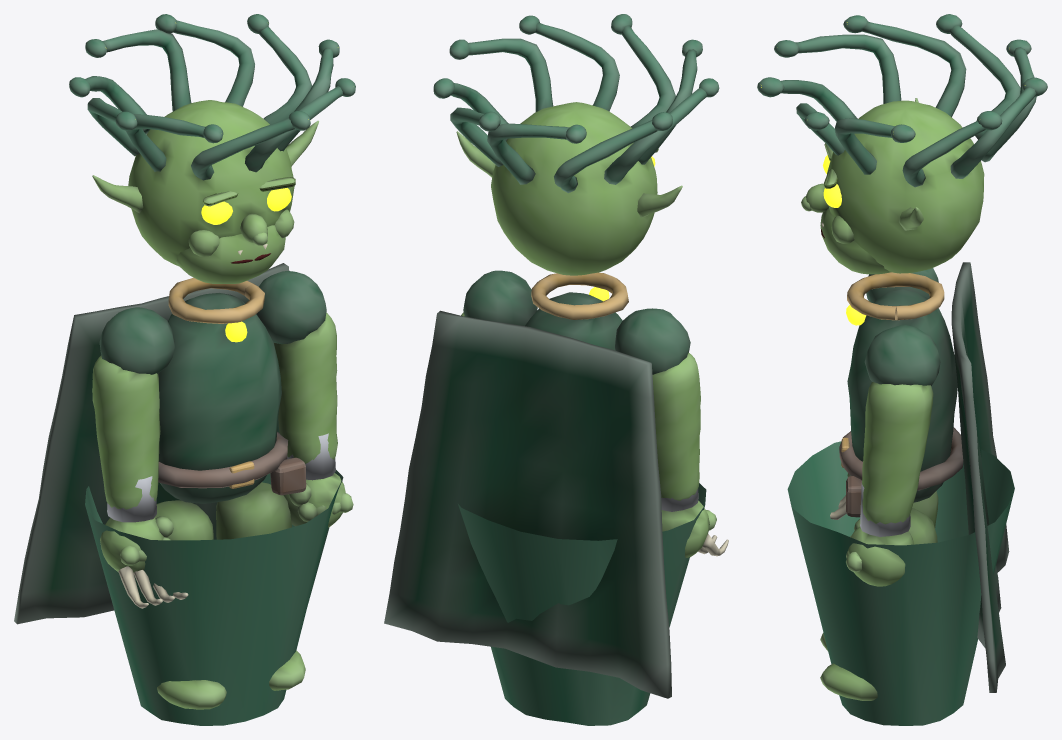
3 renders of one model, left to right at view 1: azimuth 30°, elevation 25°; view 2: azimuth 150°, elevation 25°; view 3: azimuth 270°, elevation 25°, orthographic.
Visible parts, largest first — view 1: torso, head, cape, armR, armL, legL, legR; view 2: cape, head, torso, armR; view 3: torso, head, armL, cape, legL, legR.
Boxes of the visible parts, <box> form: torso: <box>85,271,343,725</box>; head: <box>69,14,355,283</box>; cape: <box>14,263,289,624</box>; armR: <box>92,355,188,608</box>; armL: <box>274,312,353,527</box>; legL: <box>216,482,305,690</box>; legR: <box>155,500,226,709</box>; cape: <box>384,310,671,698</box>; head: <box>433,14,719,275</box>; torso: <box>458,270,706,725</box>; armR: <box>652,352,728,557</box>; torso: <box>787,268,1014,725</box>; head: <box>757,14,1047,274</box>; armL: <box>846,382,933,586</box>; cape: <box>951,262,1009,692</box>; legL: <box>820,508,937,700</box>; legR: <box>820,491,938,650</box>.
Bounding box in the file's own units: 0.5002 × 1.03 × 0.4346.
